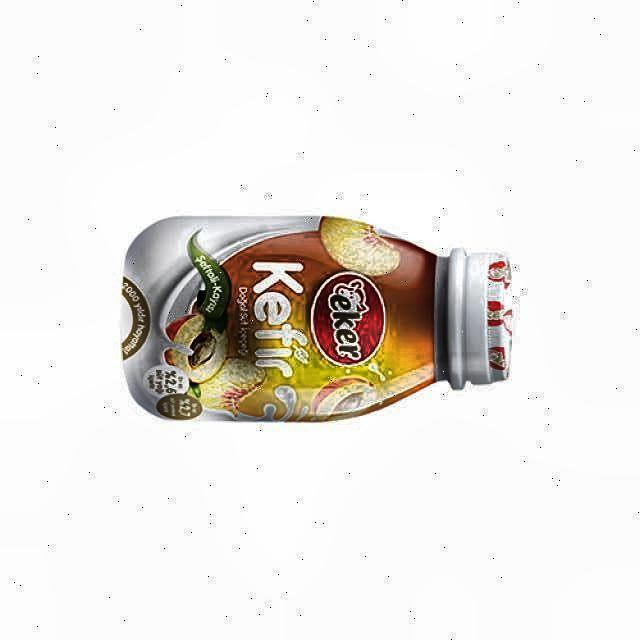plastic: (121, 215, 512, 421)
